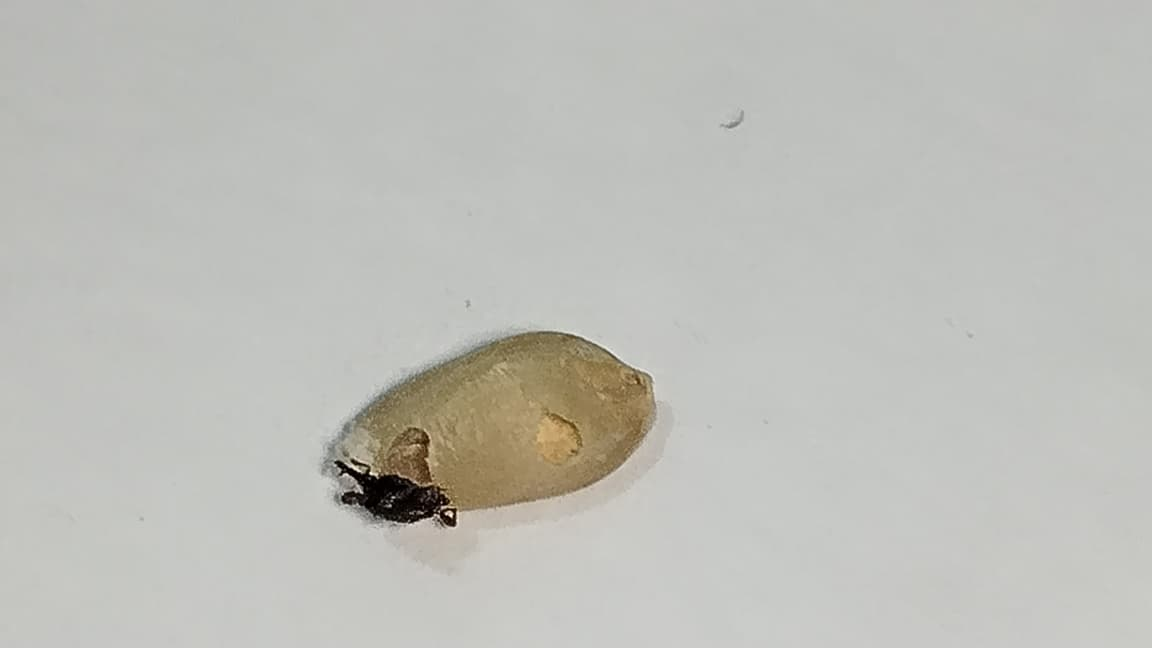damage: (331, 331, 654, 525)
insectdamage: (330, 421, 476, 559), (511, 390, 622, 476)
